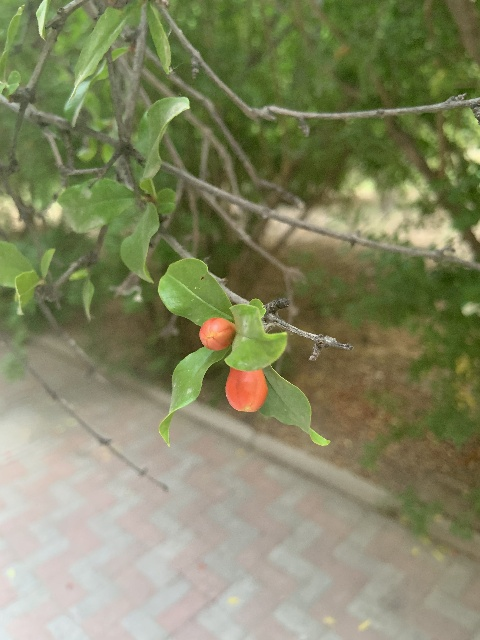bud: (225, 365, 267, 413), (199, 316, 236, 350)
